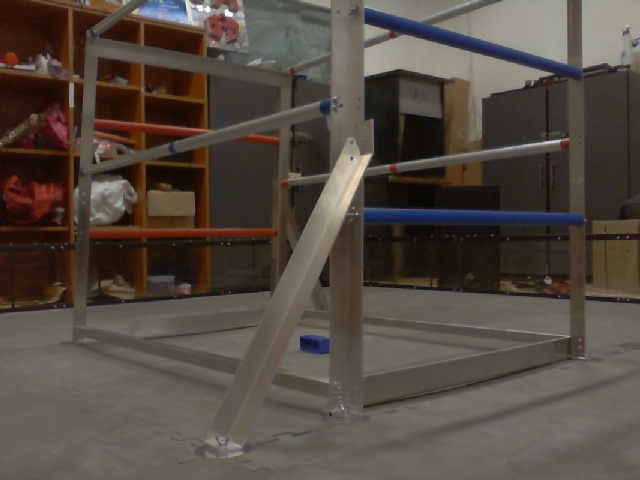BlueSample: (299, 331, 330, 358)
